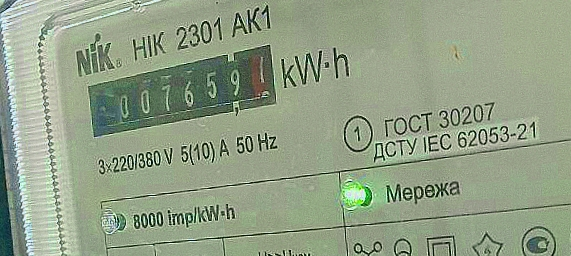0: (117, 90, 131, 119), (138, 87, 152, 115)
1: (254, 54, 268, 86)
5: (203, 69, 219, 102)
6: (181, 77, 196, 109)
7: (158, 80, 174, 113)
9: (226, 65, 243, 99)
screen: (71, 37, 297, 143)
